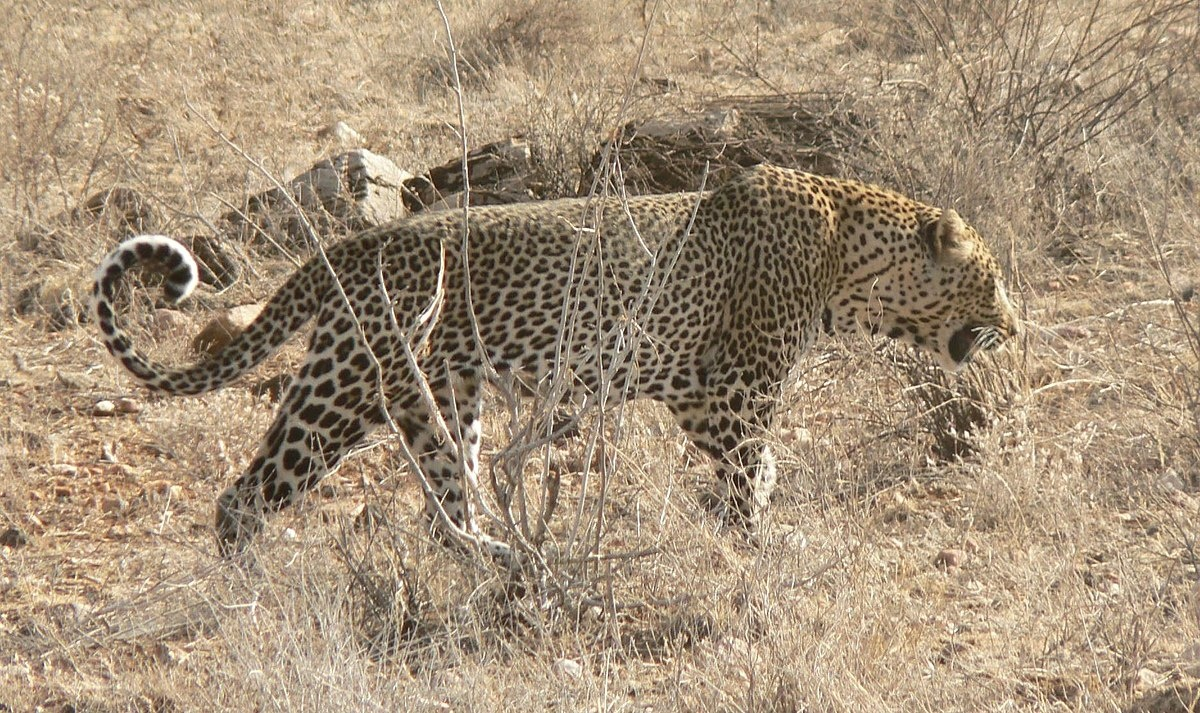leopard: (88, 156, 1023, 602)
